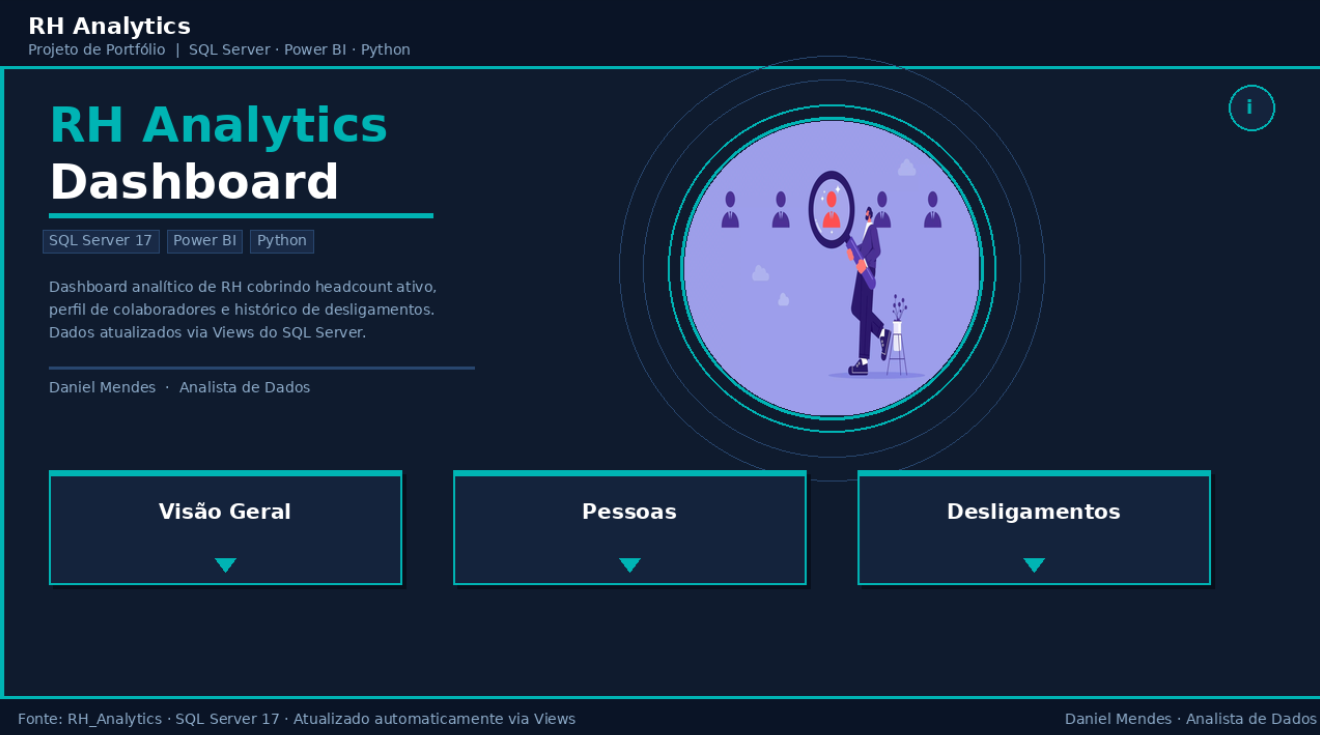

Layout of this report page (visuals, bound fields, positions):
{"tool":"powerbi","page":{"name":"Início","canvas":[1920,1080],"ordinal":0},"visuals":[{"type":"actionButton","box":[80.3,699.8,498.1,146.1],"z":0},{"type":"actionButton","box":[664.8,699.8,498.1,146.1],"z":1},{"type":"actionButton","box":[1251.5,699.8,498.1,146.1],"z":2},{"type":"actionButton","title":"Botão Info","box":[1774.8,127.7,77.3,70.6],"z":4}]}

Visuals, with their boxes on the page's 1920x1080 design canvas (x1, y1, x2, y2). These are canvas units, not pixel positions in the 1320x735 screenshot, which may show the page scaled, cropped or inside an application window:
actionButton: locate(80, 700, 578, 846)
actionButton: locate(665, 700, 1163, 846)
actionButton: locate(1252, 700, 1750, 846)
"Botão Info" actionButton: locate(1775, 128, 1852, 198)
